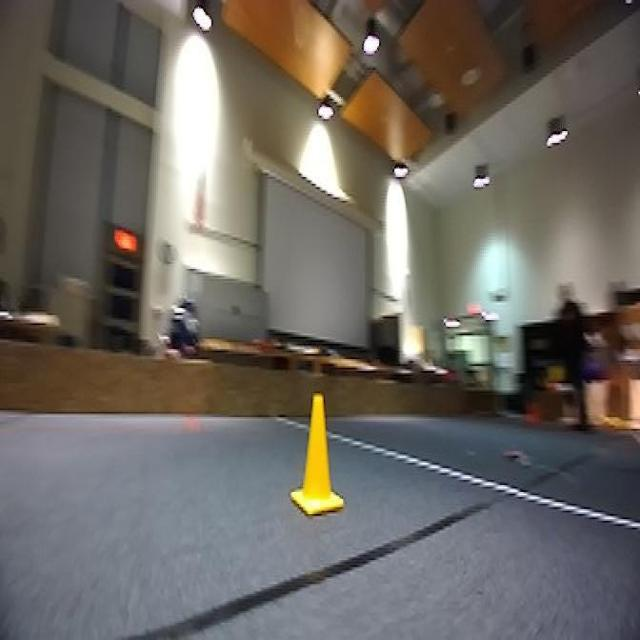frc_cone: (290, 384, 346, 518)
